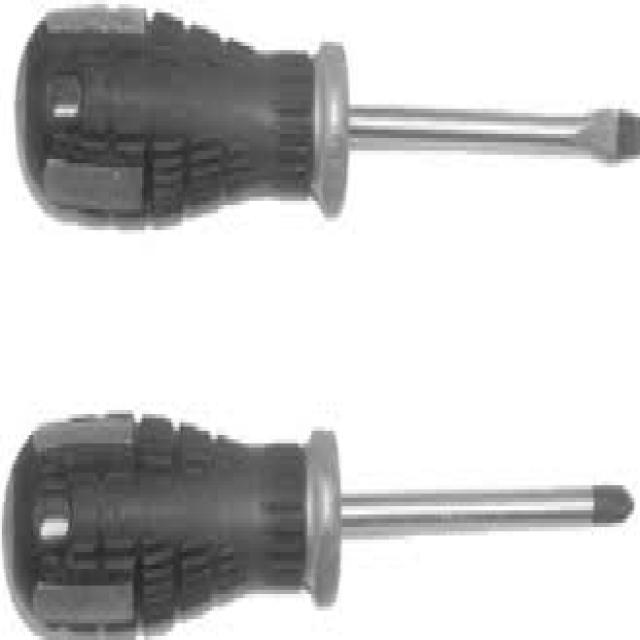Screwdriver: (5, 414, 634, 630), (18, 8, 640, 224)
